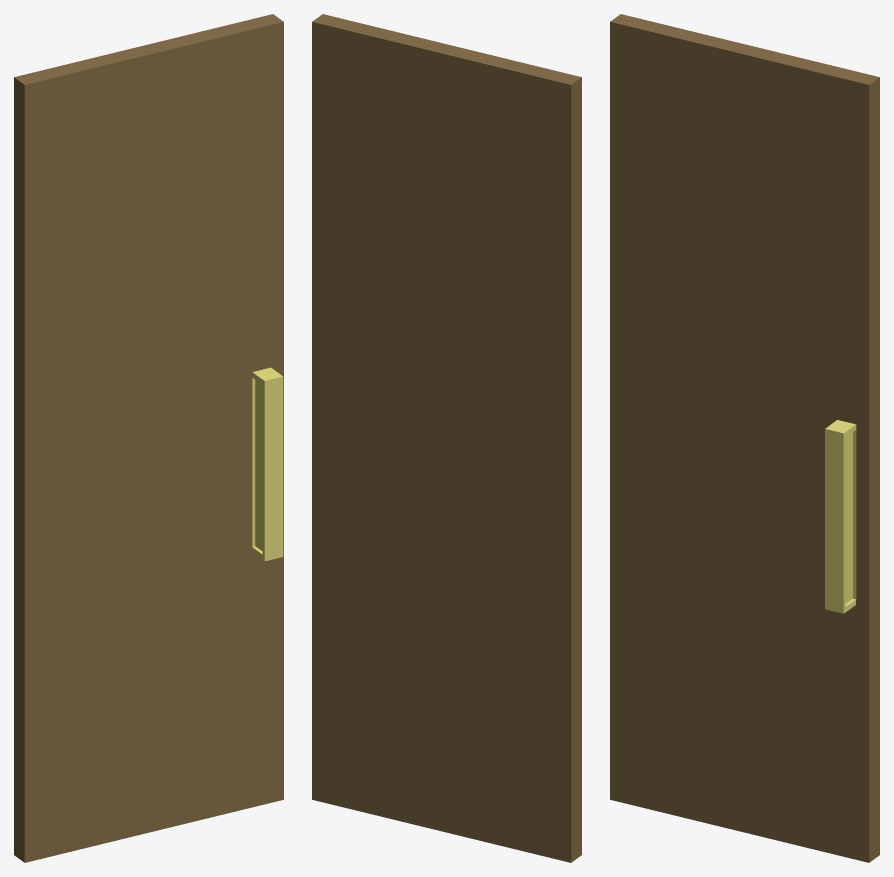
Rendered from Itr_Wardrobe3_Door_Left_01.FBX.
3 views of the same model, side by side, from view 1: azimuth 30°, elevation 25°; view 2: azimuth 150°, elevation 25°; view 3: azimuth 330°, elevation 25° (orthographic).
Parts seen in each view (by area): view 1: Itr_Wardrobe3_Door_Left_01; view 2: Itr_Wardrobe3_Door_Left_01; view 3: Itr_Wardrobe3_Door_Left_01.
Part boxes in pixels (x1,y1,x2,y2): Itr_Wardrobe3_Door_Left_01: [14, 14, 283, 862]; Itr_Wardrobe3_Door_Left_01: [312, 14, 581, 862]; Itr_Wardrobe3_Door_Left_01: [610, 14, 879, 862].
Bounding box in the file's own units: 20.07 × 57.59 × 3.1.
